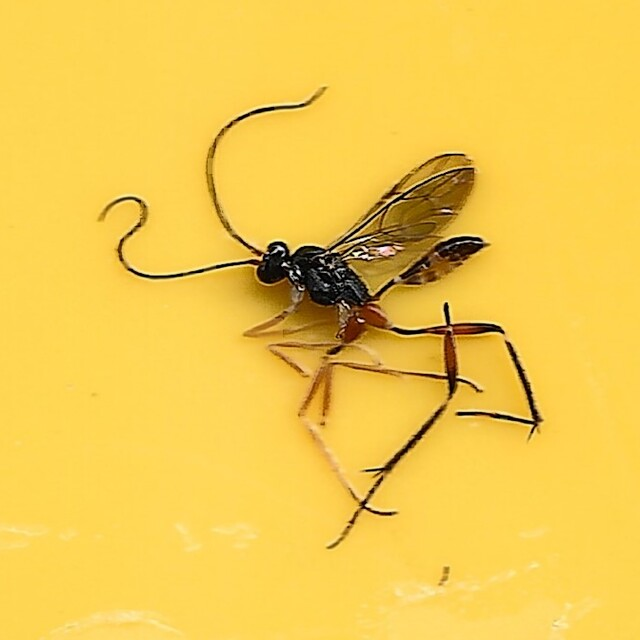Hymenoptera: (95, 87, 545, 553)
